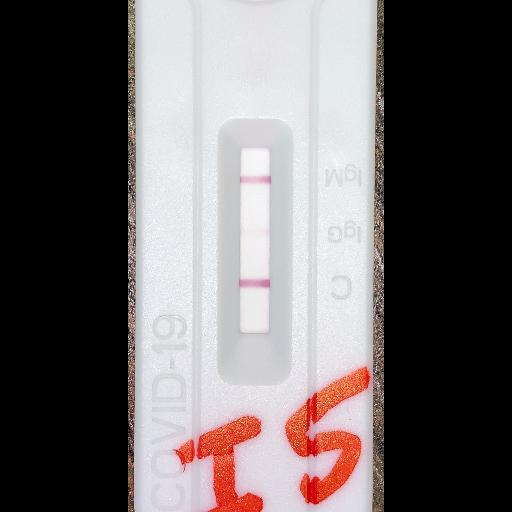Pos: (138, 0, 366, 511)
